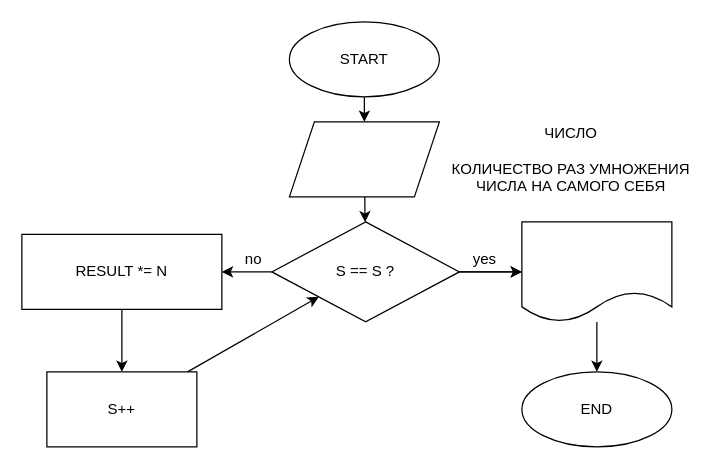
This 724x469 diagram has some shape labels left out. Each missing label, with the centre of its shape:
"N RESULT = 1 S (LENGTH)" belongs at (363,159).
"PRINT VALUE" belongs at (596,271).
